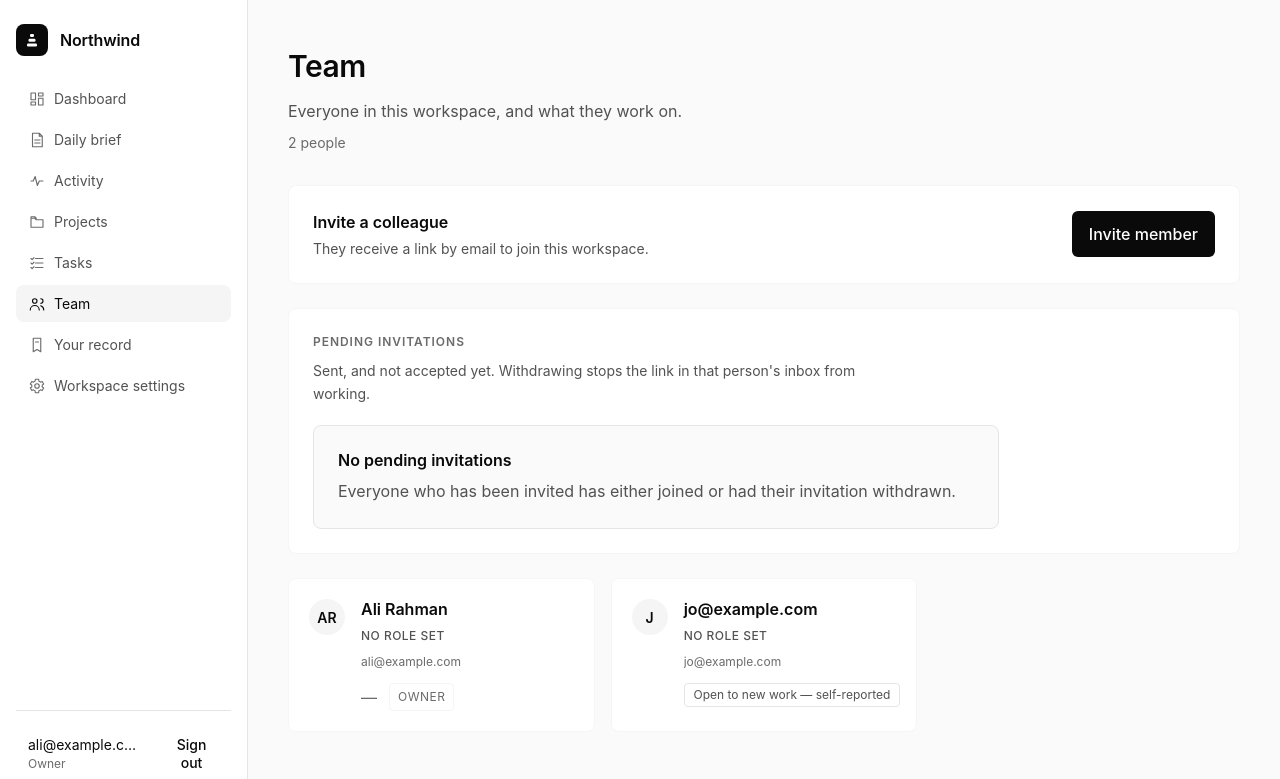
Test: inviting a colleague › reports a refused invitation without clearing what was typed
The width and height of the screenshot is (1280, 779).
Expected: the heading "Ali Rahman" is shown, [361,600,448,620]
Click the button "Invite member" at (1143, 234), box [1072,211,1215,257]
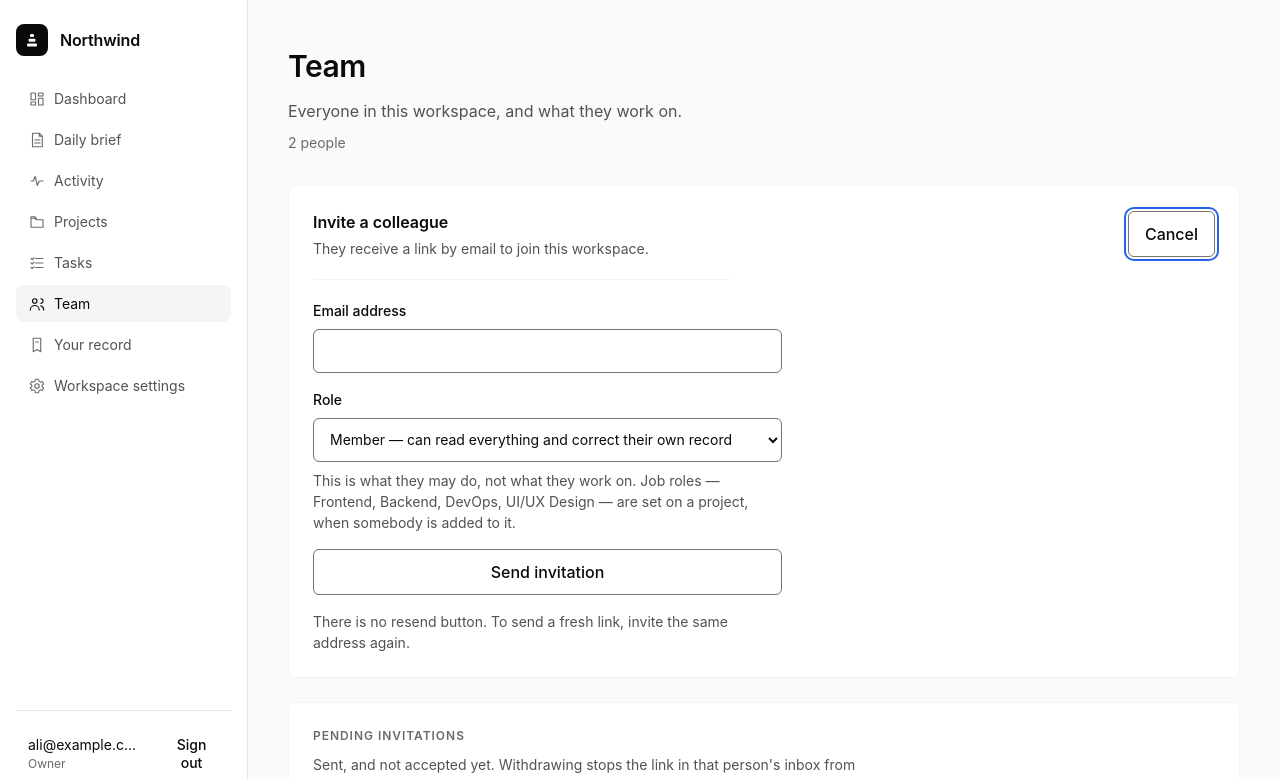
Type "taken@example.com" into the field labelled "Email address" at (548, 351), box [313,329,782,373]
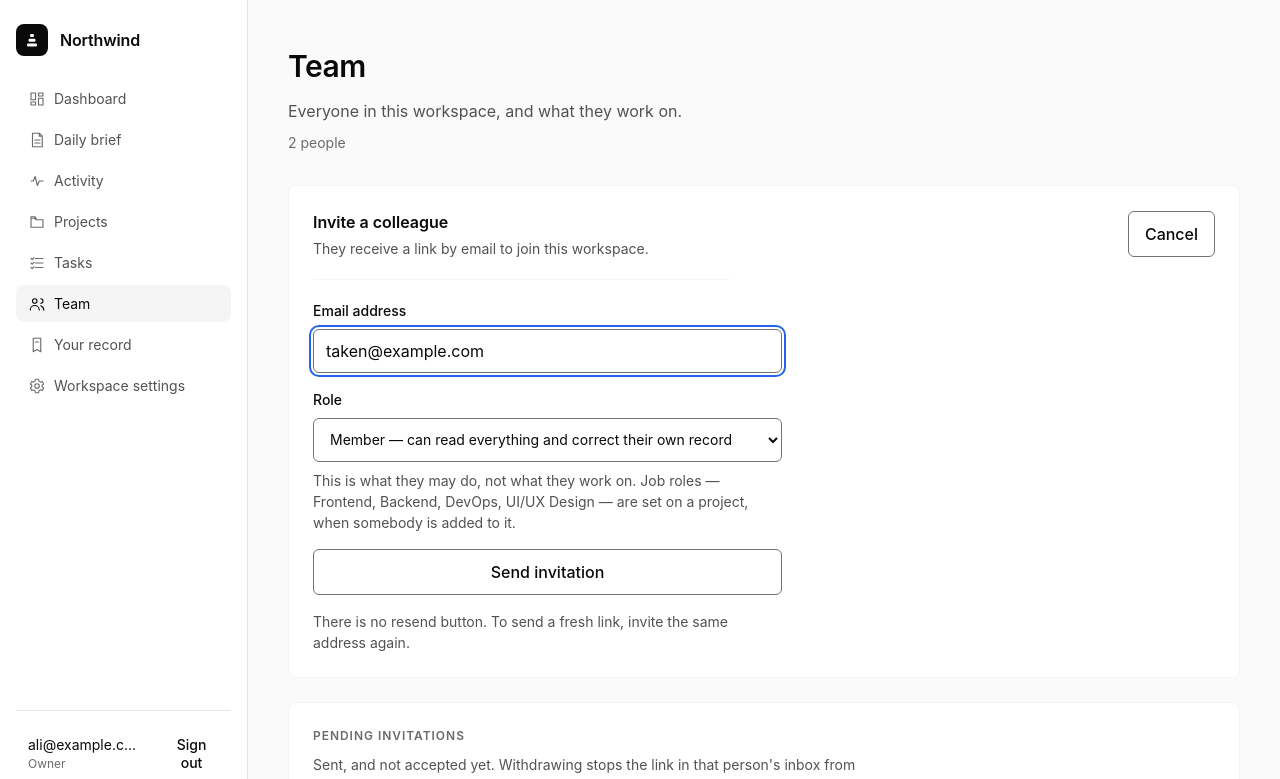
Click the button "Send invitation" at (548, 572), box [313,549,782,595]
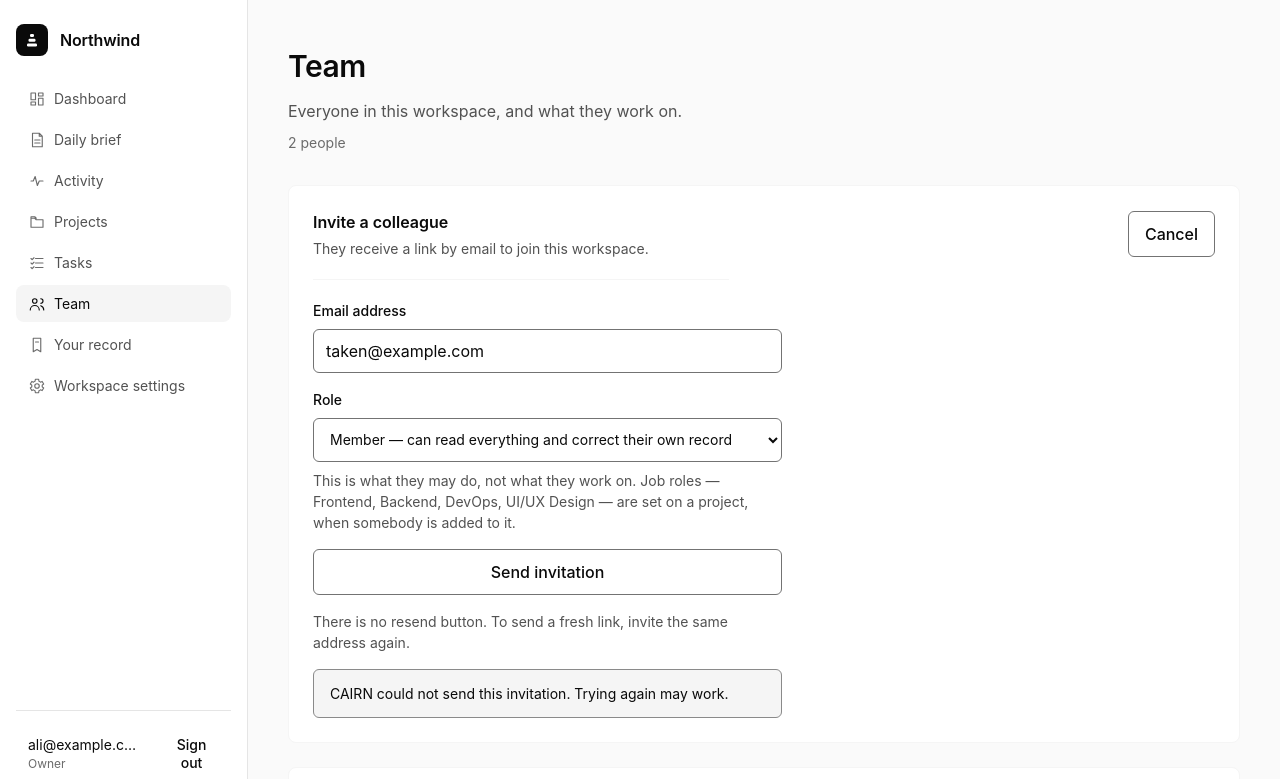
Now the message "CAIRN could not send this invitation. Trying again may work." is shown, box [313,669,782,718]
